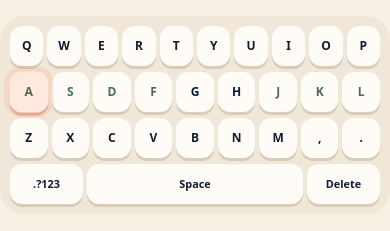
Test: responsive mobile typing UI contract › opens a content-specific secondary layer and returns to letters
Step 1. Click the button named "Numbers and symbols" → (47, 184), box [10,164,83,204]
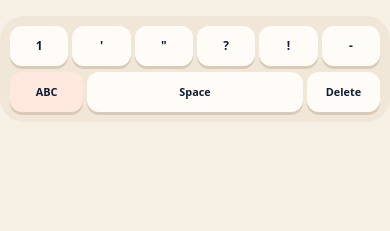
Expected: the button "1" is shown, [10,26,68,66]
Result: the button with aria-label "Letters" is pressed
Step 2. Click the button with aria-label "Letters" → (47, 92), box [10,72,83,112]
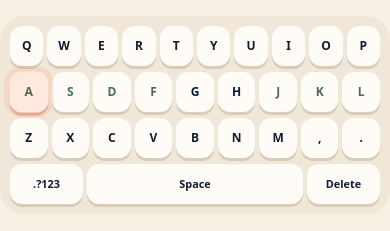
Result: the button named "Numbers and symbols" is shown at [10,164,83,204]
